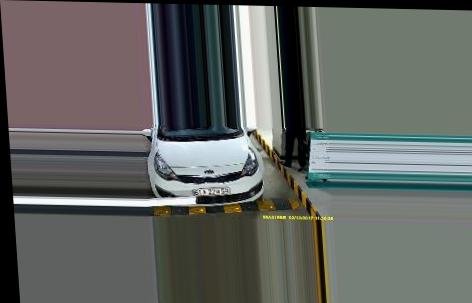License_Plate: (192, 187, 231, 197)
